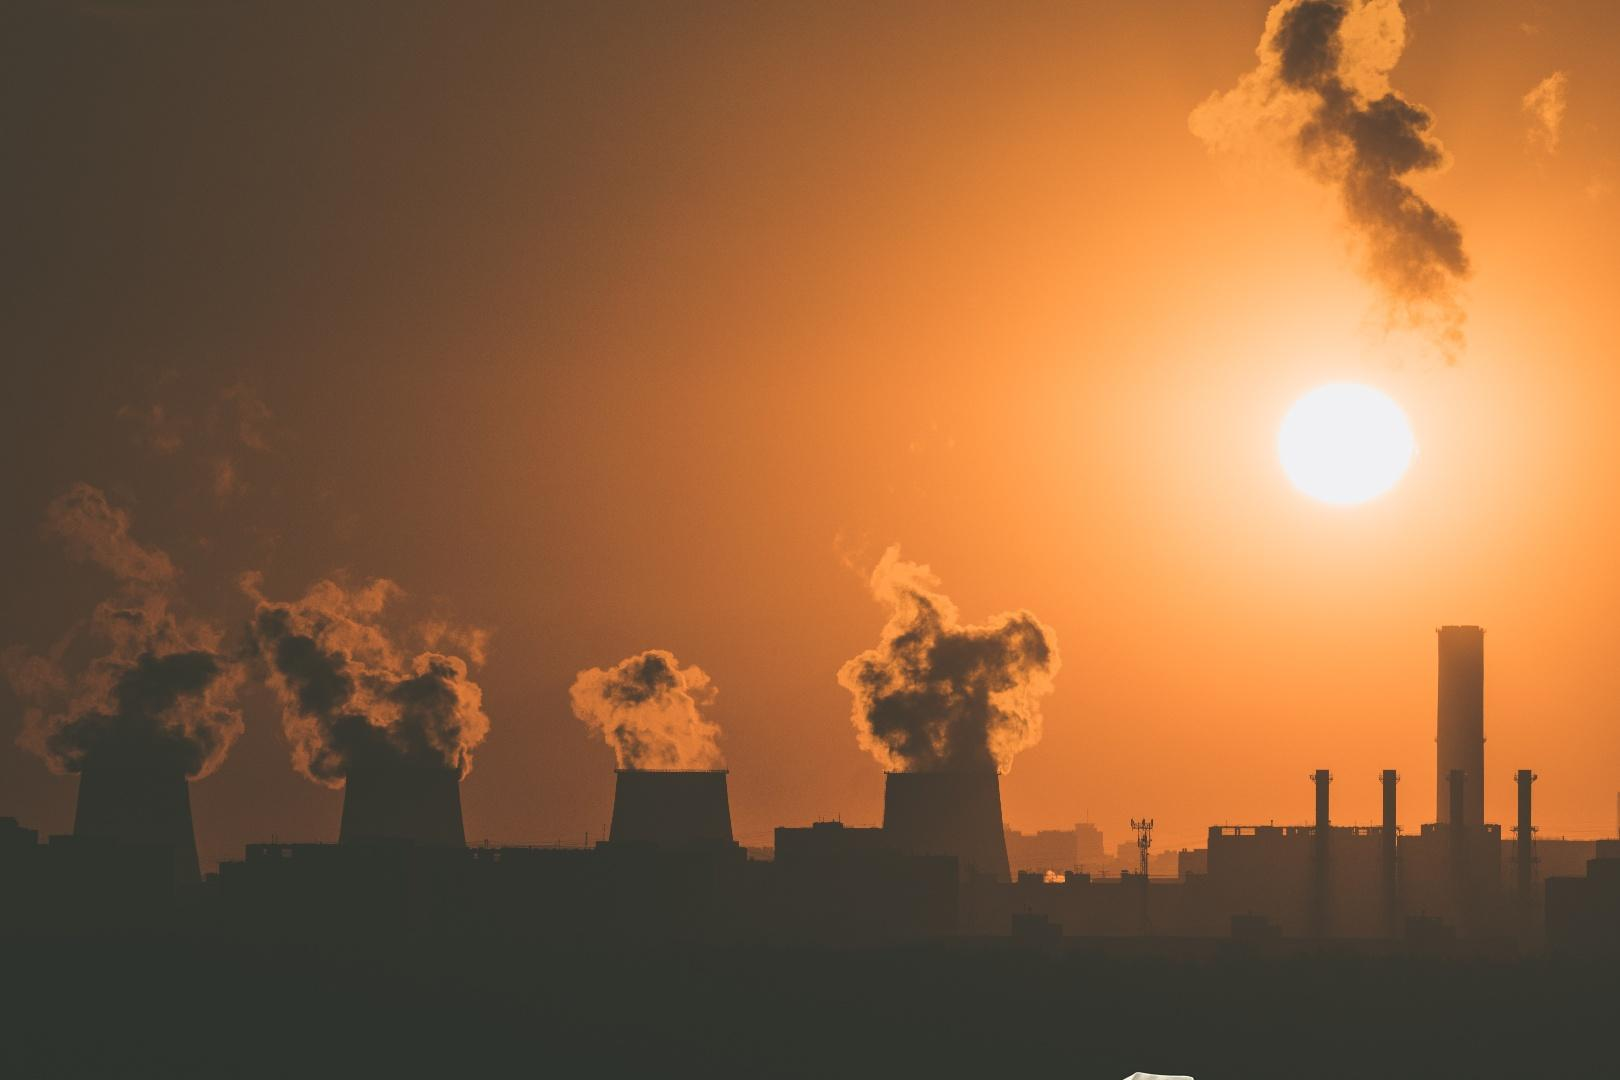clothes: (943, 1069, 1395, 1080)
